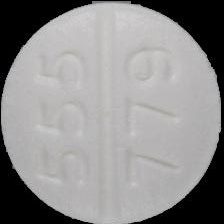10544-062: (0, 0, 224, 224)
